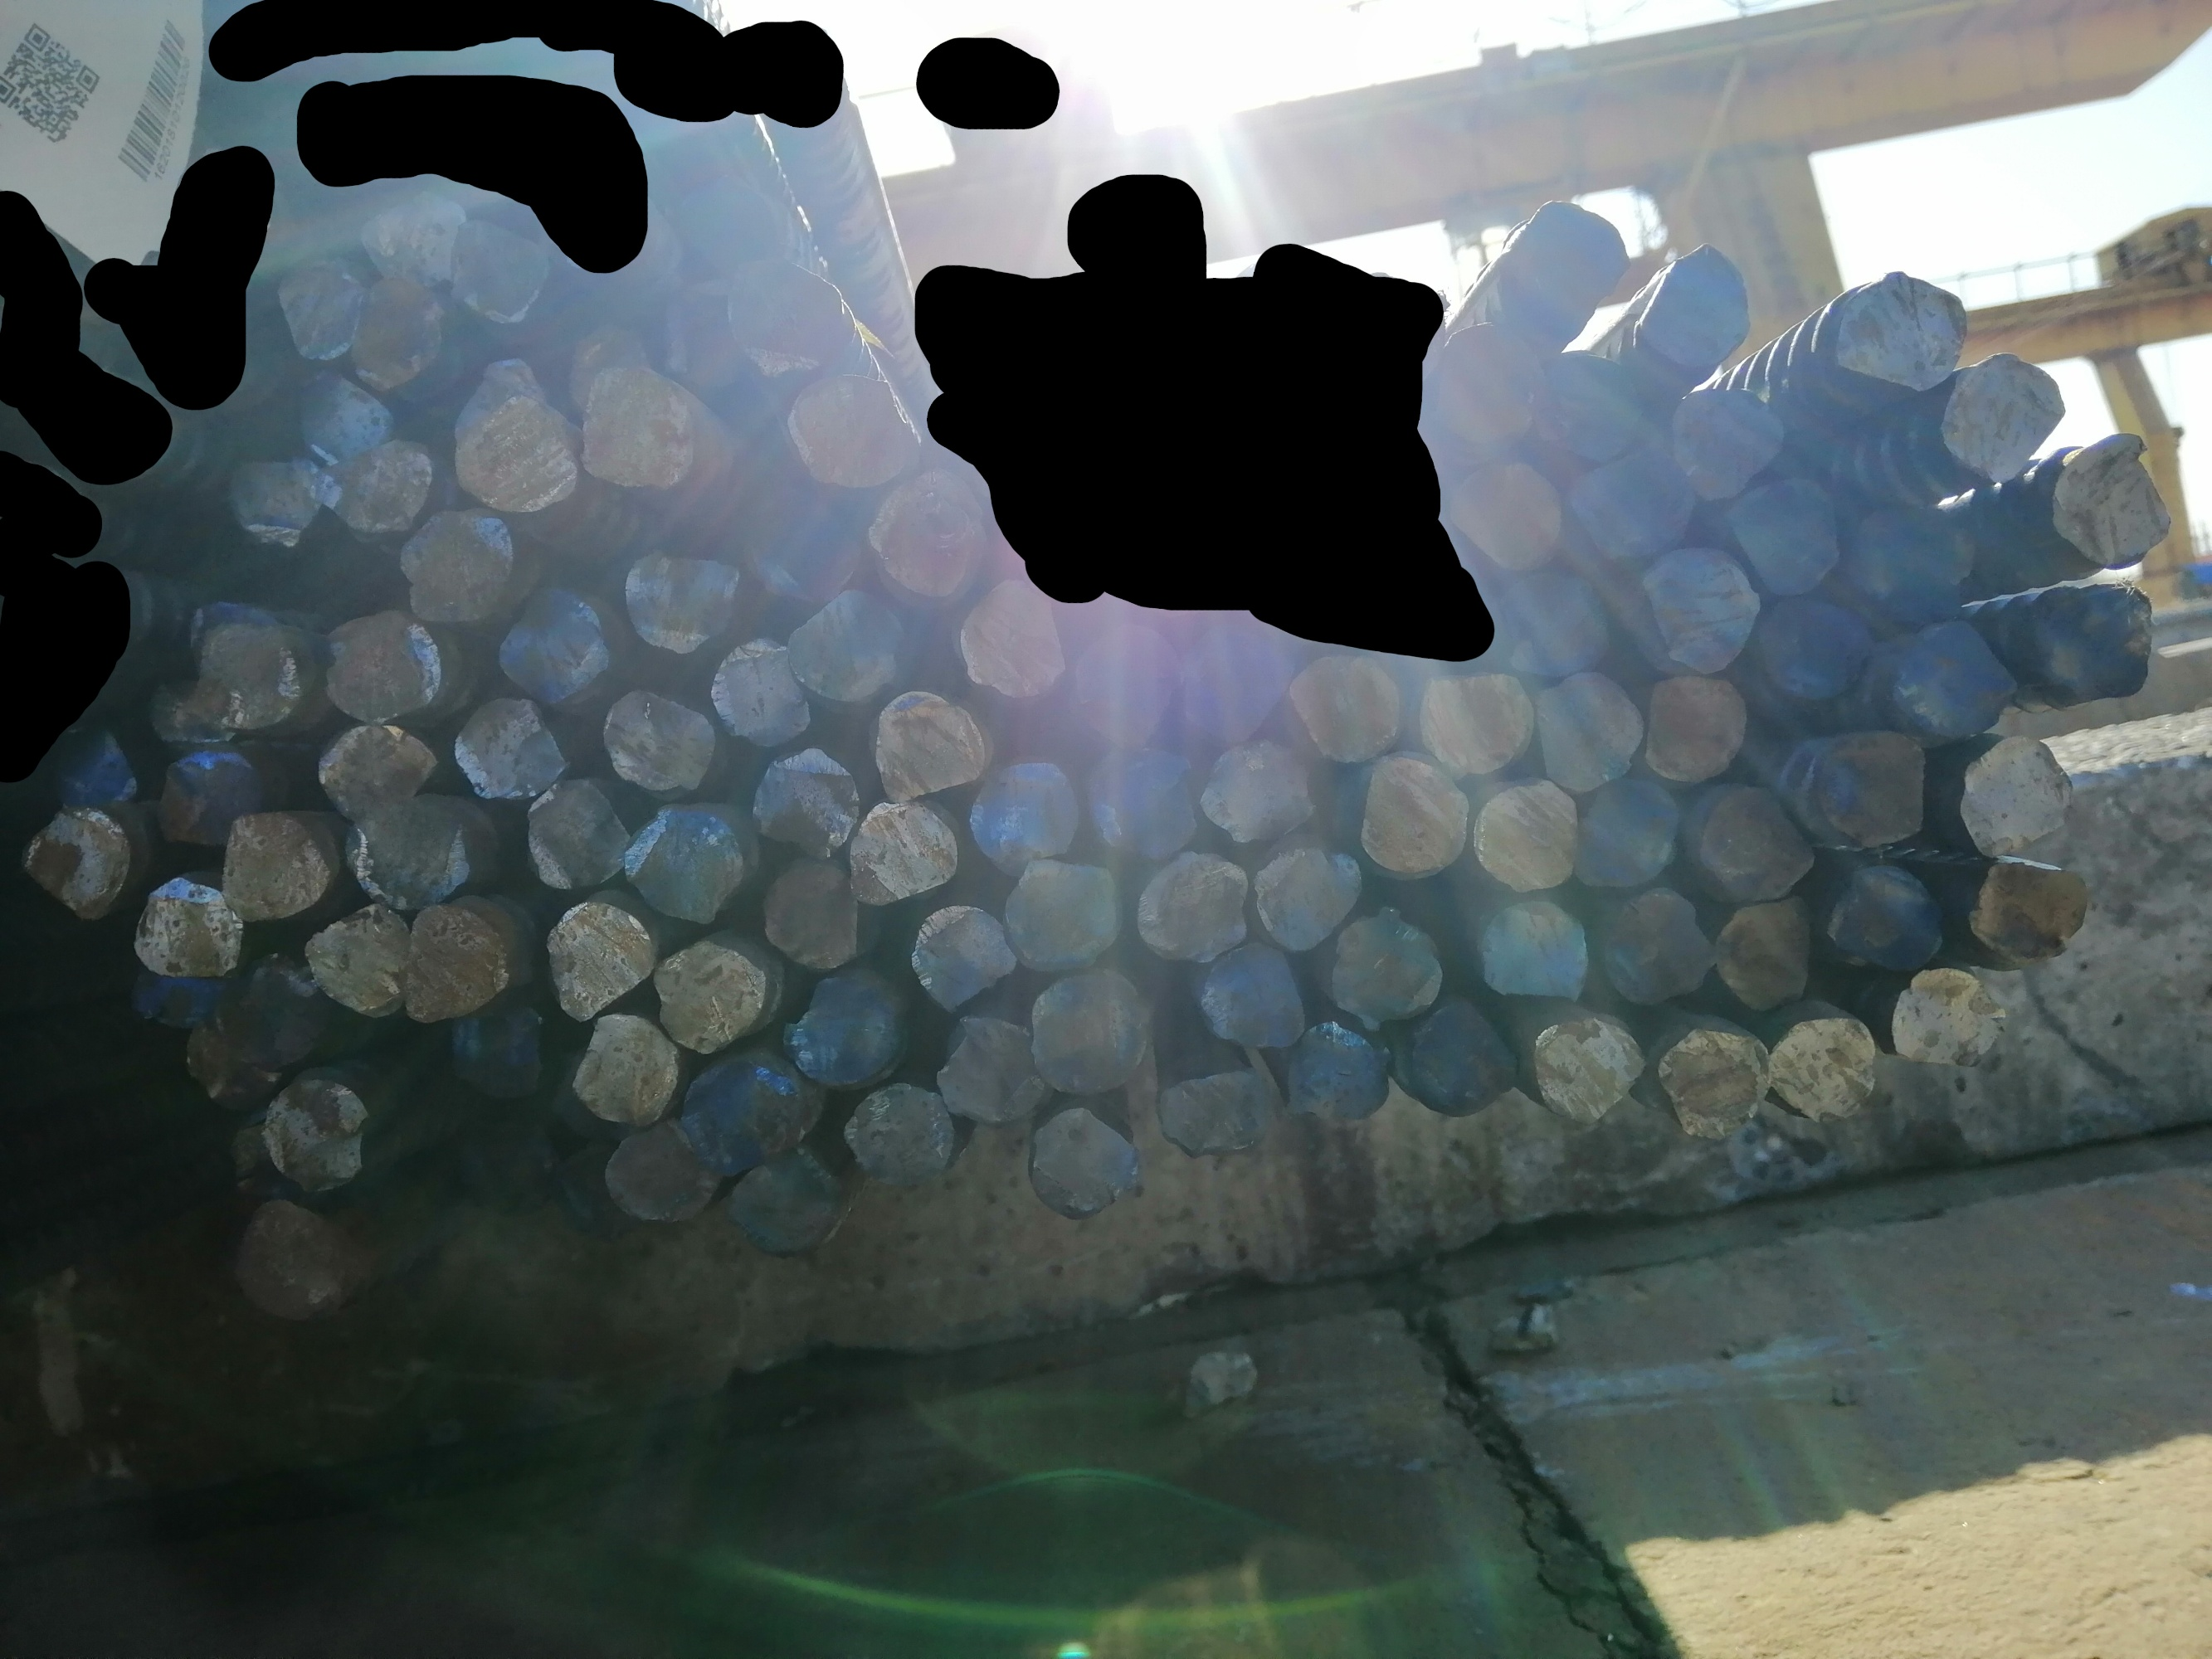rebar: (673, 1046, 824, 1175), (786, 354, 927, 491), (1844, 495, 1987, 629), (1867, 610, 2019, 734), (1935, 349, 2071, 486), (1321, 890, 1447, 1037), (1168, 610, 1302, 746), (2046, 436, 2184, 568), (2029, 573, 2161, 709), (1825, 267, 1966, 394), (1630, 538, 1764, 671), (1720, 458, 1849, 592), (1686, 774, 1815, 906), (1499, 193, 1633, 321), (450, 394, 586, 519), (868, 467, 992, 605), (1023, 967, 1152, 1098), (1075, 734, 1204, 863), (1628, 242, 1761, 368), (622, 803, 758, 925), (943, 566, 1065, 701), (1389, 997, 1520, 1121), (577, 361, 699, 493), (389, 502, 525, 620), (1804, 721, 1928, 850), (1954, 730, 2076, 861), (743, 486, 877, 605), (1351, 753, 1473, 882), (779, 967, 912, 1086), (1659, 378, 1785, 502), (722, 258, 849, 380), (181, 622, 310, 742), (1243, 829, 1367, 953), (1419, 317, 1539, 444), (1565, 443, 1696, 559), (1131, 843, 1253, 967), (1966, 850, 2095, 967), (1281, 641, 1403, 763), (1525, 1006, 1647, 1127), (1069, 619, 1185, 746), (312, 610, 441, 725), (345, 800, 474, 915), (1600, 875, 1712, 1007), (261, 1066, 370, 1202), (1473, 774, 1591, 897), (537, 892, 655, 1016), (840, 795, 967, 910), (615, 538, 743, 653), (1884, 960, 2013, 1073), (654, 936, 774, 1056), (1525, 338, 1644, 460), (1656, 1023, 1774, 1145), (1442, 451, 1565, 568), (490, 589, 612, 706), (227, 1199, 343, 1321), (779, 592, 906, 704), (1829, 852, 1945, 972), (1021, 1110, 1142, 1227), (870, 680, 987, 800), (934, 1002, 1039, 1136), (1422, 660, 1536, 784), (303, 899, 411, 1028), (1473, 890, 1595, 1004), (16, 803, 132, 920), (403, 899, 509, 1026), (1006, 856, 1123, 971), (1713, 892, 1825, 1012), (1768, 1004, 1877, 1126), (1537, 671, 1647, 793), (1196, 739, 1321, 843), (708, 629, 812, 753), (600, 681, 715, 793), (310, 720, 443, 816), (1192, 945, 1306, 1056), (729, 1152, 844, 1262), (132, 866, 242, 981), (448, 695, 568, 800), (1752, 594, 1877, 694), (1281, 1019, 1393, 1131), (1159, 1056, 1271, 1168), (221, 810, 331, 924), (906, 899, 1014, 1014), (1639, 669, 1745, 786), (763, 856, 870, 972), (530, 777, 633, 897), (750, 742, 861, 852), (345, 277, 446, 397), (671, 171, 793, 270), (605, 1119, 718, 1225), (570, 1014, 675, 1129), (969, 756, 1077, 866), (159, 746, 265, 856), (1504, 573, 1616, 678), (446, 345, 558, 450), (223, 945, 317, 1068), (319, 436, 439, 532), (453, 1110, 560, 1218), (1579, 777, 1682, 889), (218, 446, 336, 540), (441, 221, 549, 324), (38, 718, 141, 823), (272, 254, 371, 362), (837, 1077, 941, 1178), (443, 1011, 551, 1108), (359, 192, 471, 282), (664, 275, 750, 392), (181, 1012, 275, 1117), (288, 364, 387, 460), (560, 1140, 638, 1249), (129, 958, 235, 1037), (556, 322, 643, 410), (535, 1046, 617, 1134)
